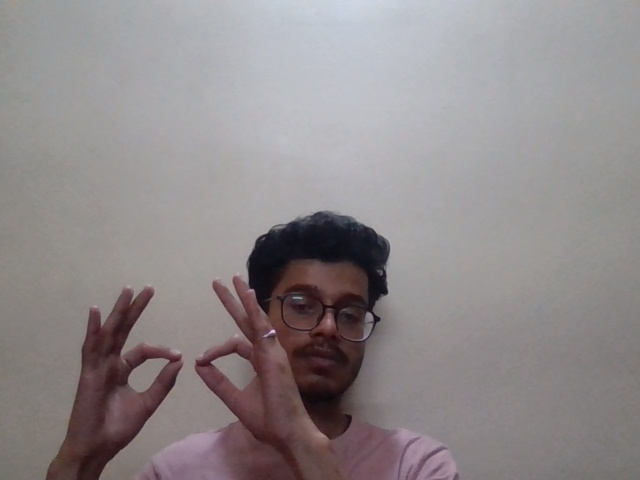nice: (67, 265, 311, 441)
